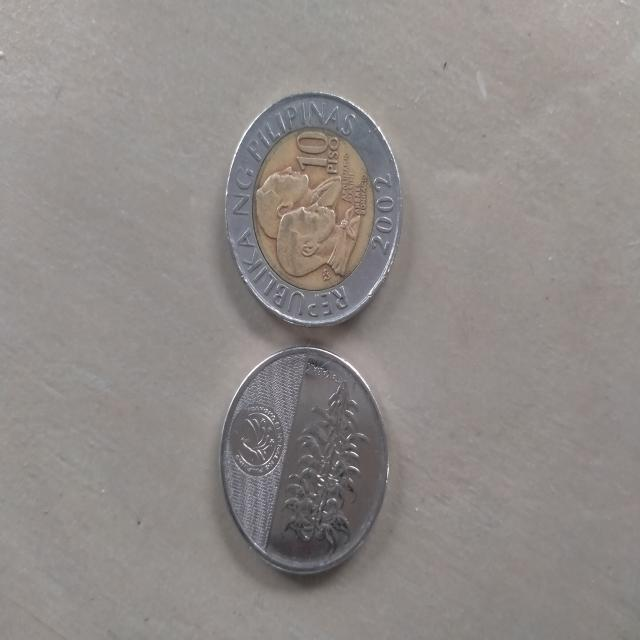10_Old_Front: (226, 91, 401, 325)
5_New_Back: (281, 373, 371, 562)
